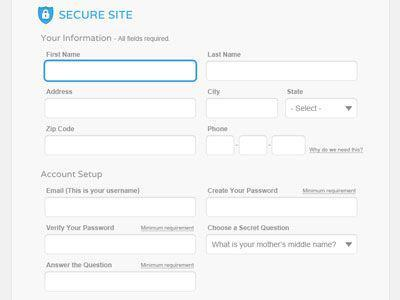dropdown: (208, 236, 358, 255), (287, 100, 358, 119)
input: (45, 61, 198, 82), (208, 62, 359, 82), (46, 136, 197, 156), (46, 236, 197, 256), (47, 100, 197, 119), (207, 200, 358, 218), (46, 199, 196, 217), (47, 274, 196, 292), (208, 99, 279, 118), (273, 137, 307, 156), (206, 137, 235, 157), (240, 137, 268, 156)
label: (47, 188, 142, 197), (40, 169, 104, 181), (207, 224, 291, 232), (48, 261, 114, 271), (302, 186, 360, 197), (140, 261, 197, 271), (209, 187, 280, 195), (48, 225, 118, 233), (142, 225, 196, 235), (208, 50, 241, 60), (43, 50, 82, 58), (45, 125, 76, 134), (45, 89, 76, 97), (207, 126, 229, 134), (287, 89, 305, 96), (208, 88, 222, 96)
